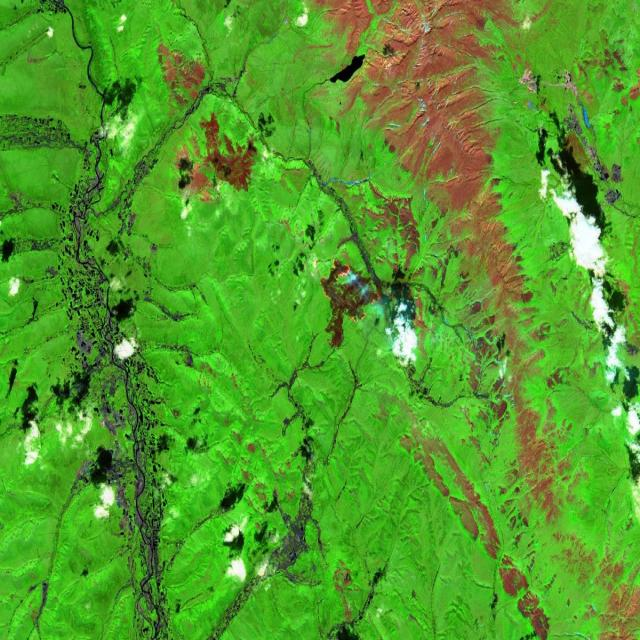fire: (317, 252, 383, 335)
